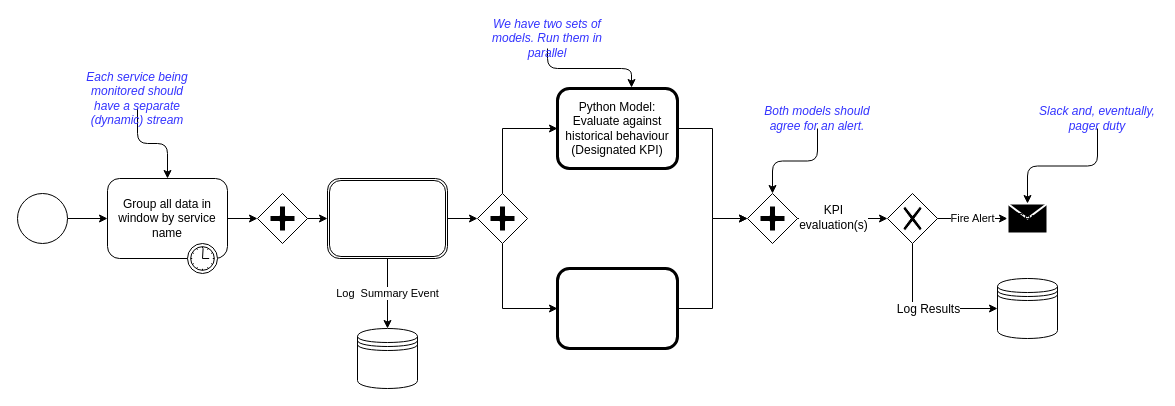
This 1175x406 diagram has some shape labels left out. The centre of each missing label's shape, as x and y in pixels:
"Aggregate set of events" goes at pixel 387 218.
"Python Model (Anomaly detection)" goes at pixel 617 308.
